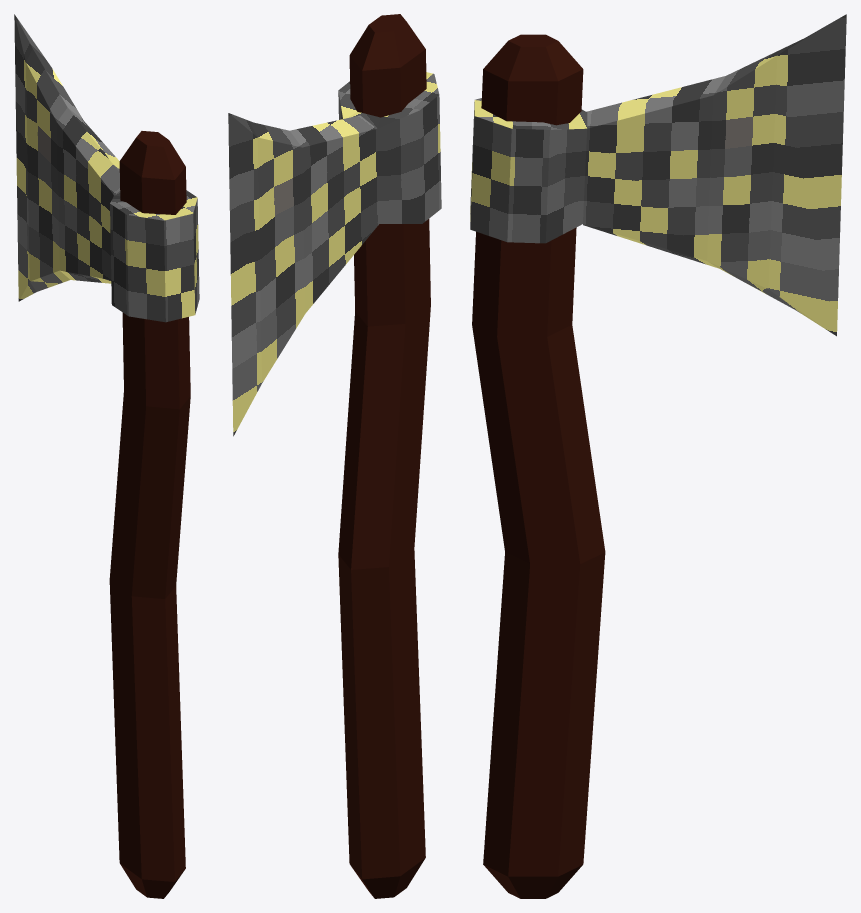
Rendered from npcmobcloner.obj.
The picture shows the model from 3 angles, left to right: view 1: azimuth 30°, elevation 25°; view 2: azimuth 150°, elevation 25°; view 3: azimuth 270°, elevation 25°; orthographic projection. The views are drawn at different scales.
Visible parts, largest first — view 1: lever, tip; view 2: lever, tip; view 3: lever, tip.
Part boxes in pixels (x1,y1,x2,y2): lever: [109, 131, 190, 898]; tip: [14, 14, 199, 322]; lever: [338, 14, 430, 898]; tip: [228, 72, 441, 436]; lever: [472, 34, 605, 898]; tip: [470, 14, 846, 336].
Size of the model in its own units: 0.0924 by 0.9669 by 0.3755.
